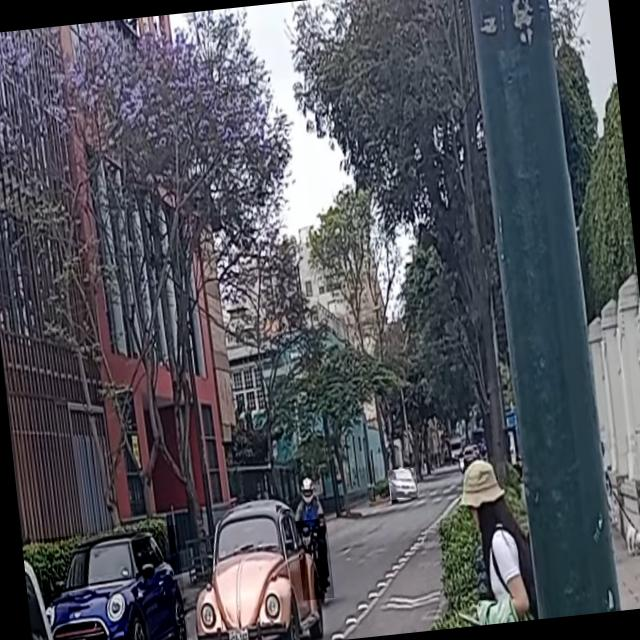car: (183, 494, 322, 640), (37, 524, 190, 640), (22, 542, 73, 640), (387, 467, 418, 500)
motorcycle: (295, 518, 334, 601)
